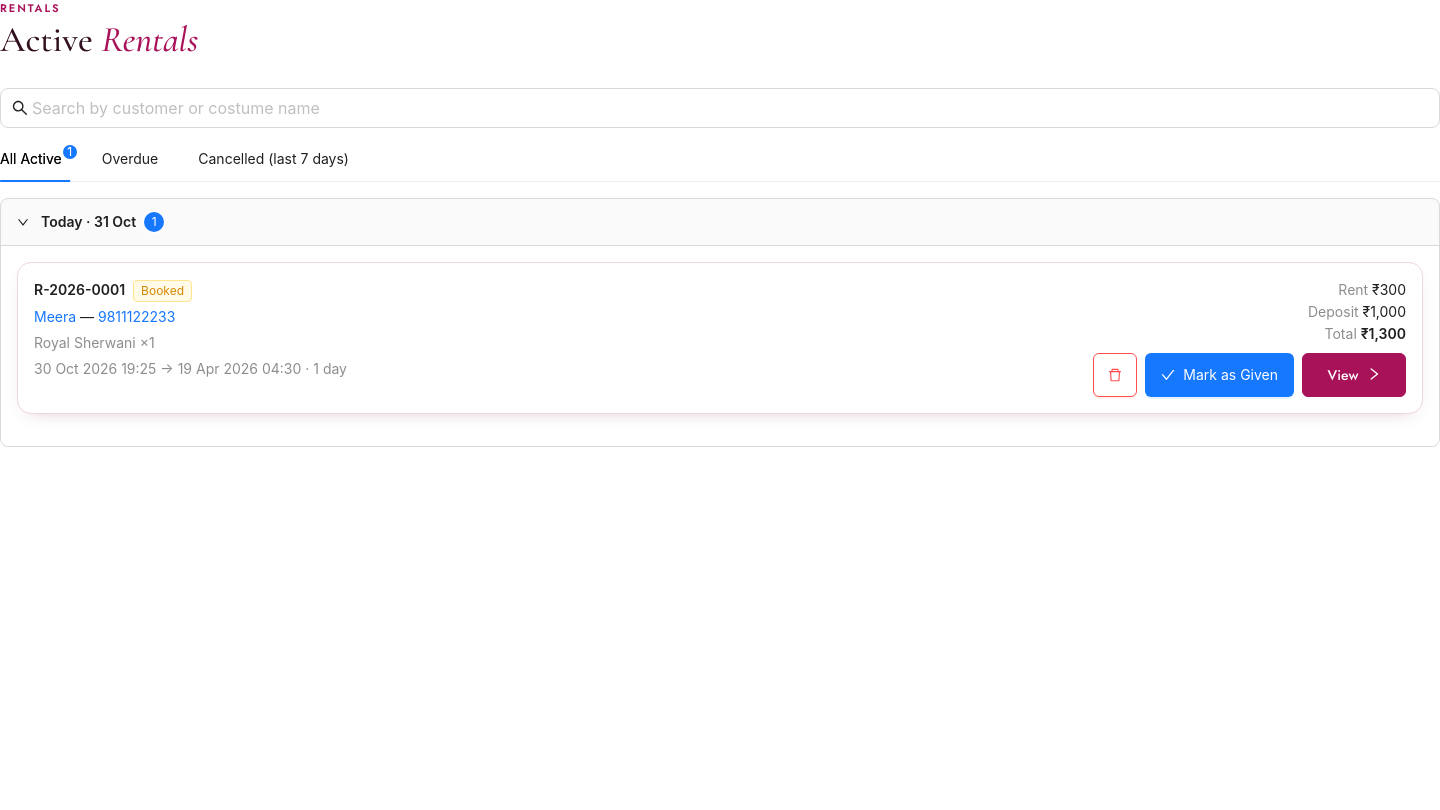
Scenario: ReceiptsPage given / booked state on the Active Rentals card › Go back on the card confirm dialog sends no request
Click the button "Mark as Given".
click(1220, 375)  # box 1145,353 -> 1294,397
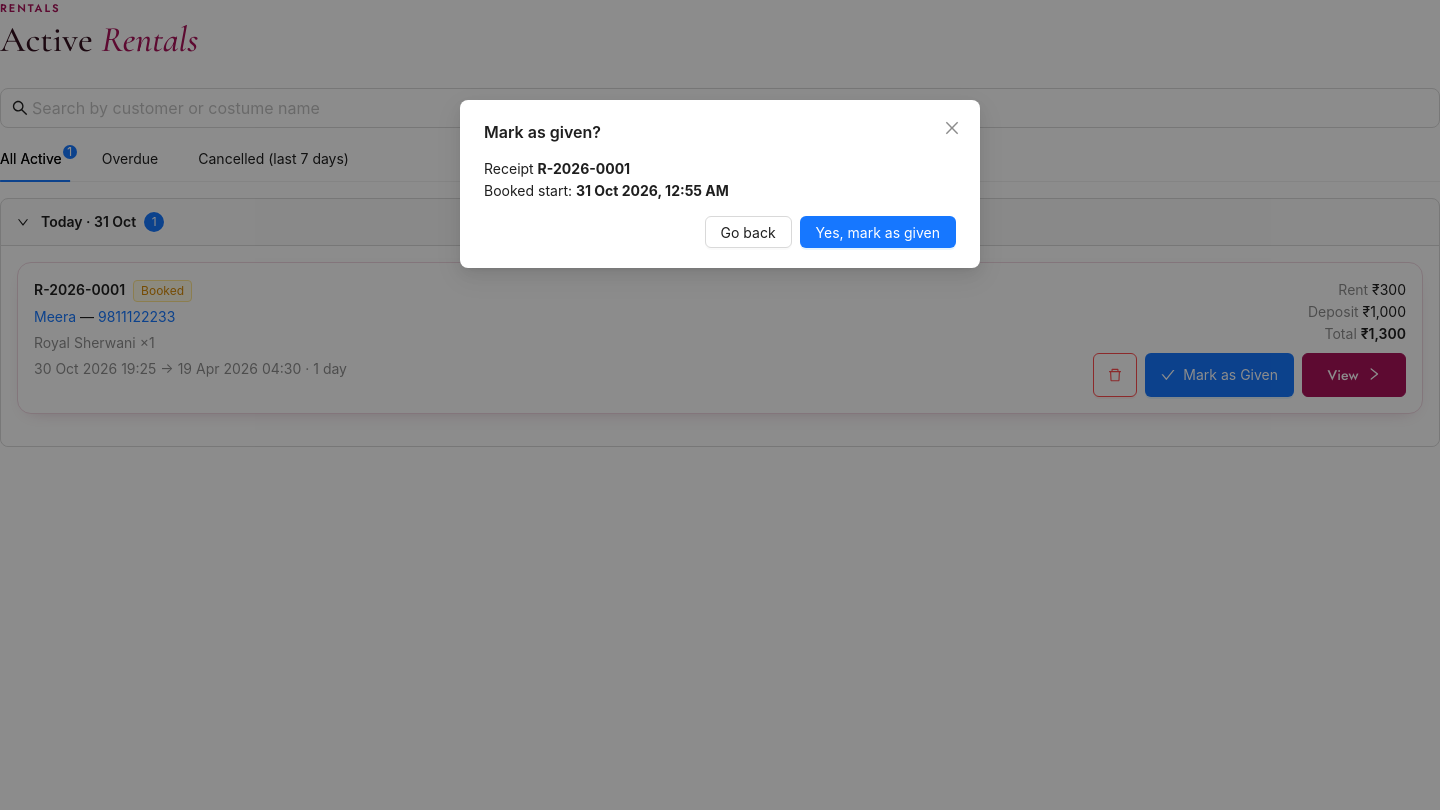
Click the button "Go back".
click(748, 232)  # box 705,216 -> 792,248
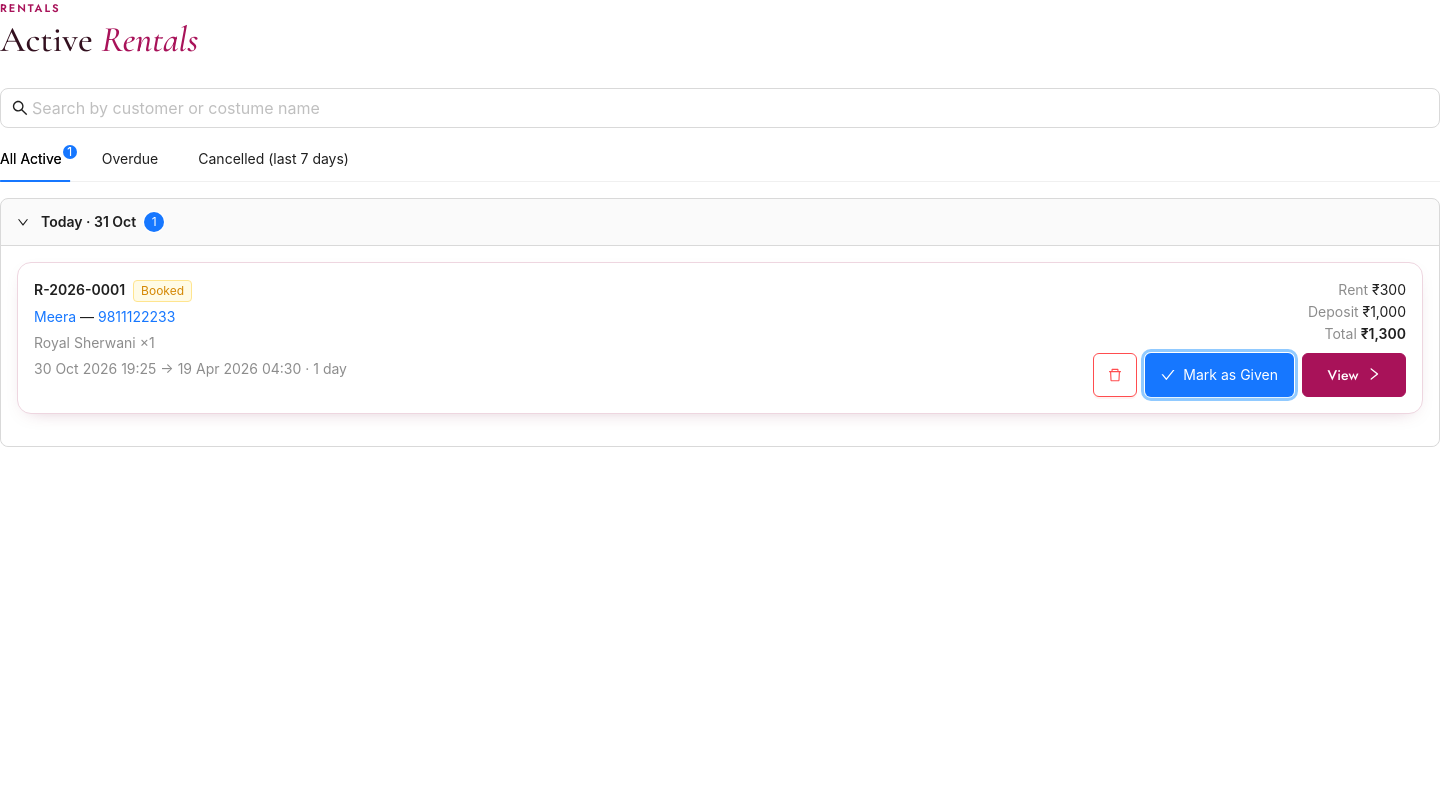
Expected: the text "Booked" is shown, 133,280 -> 192,302
Now the dialog is gone
